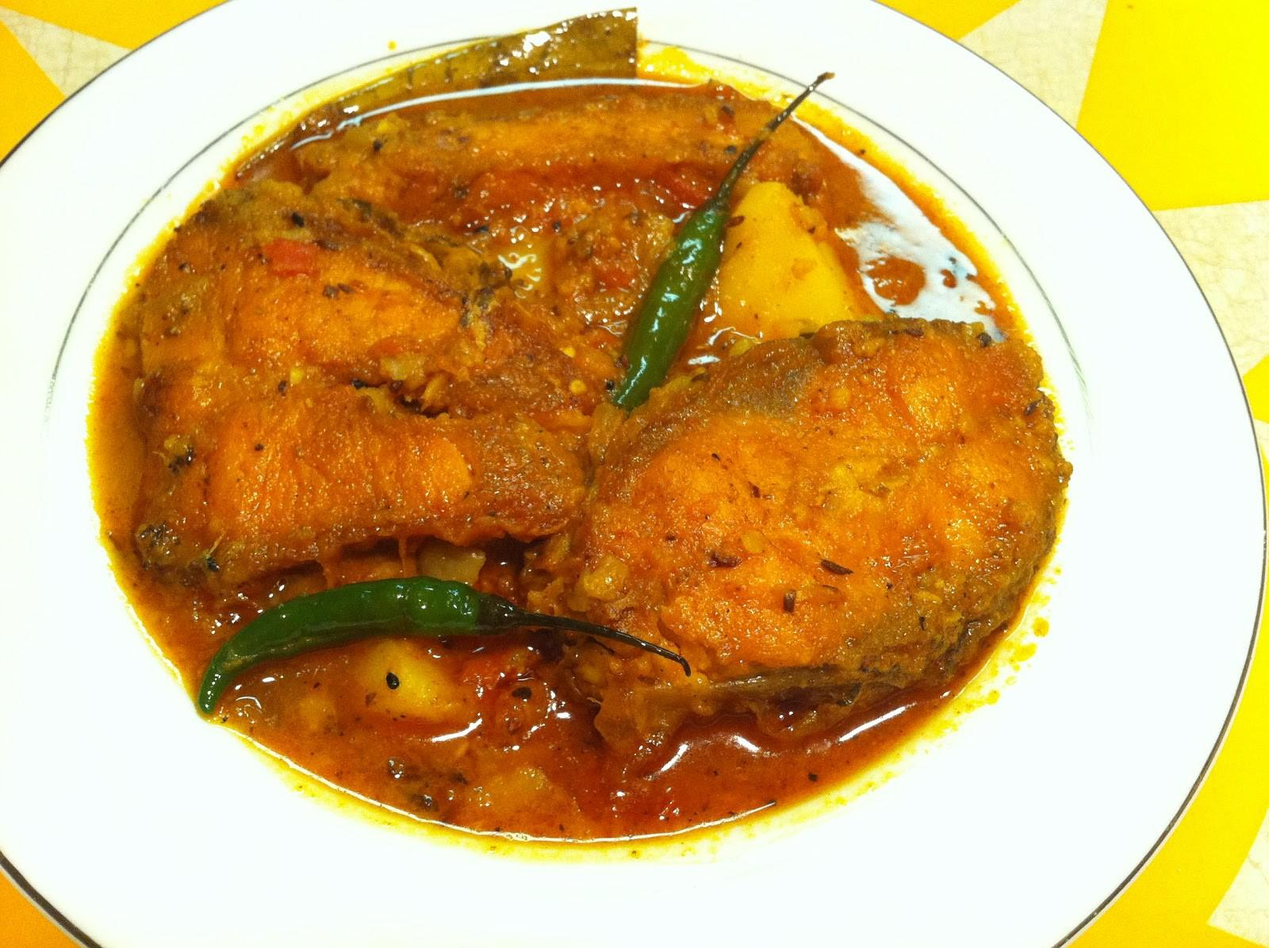FishCurry: (92, 3, 1071, 835)
